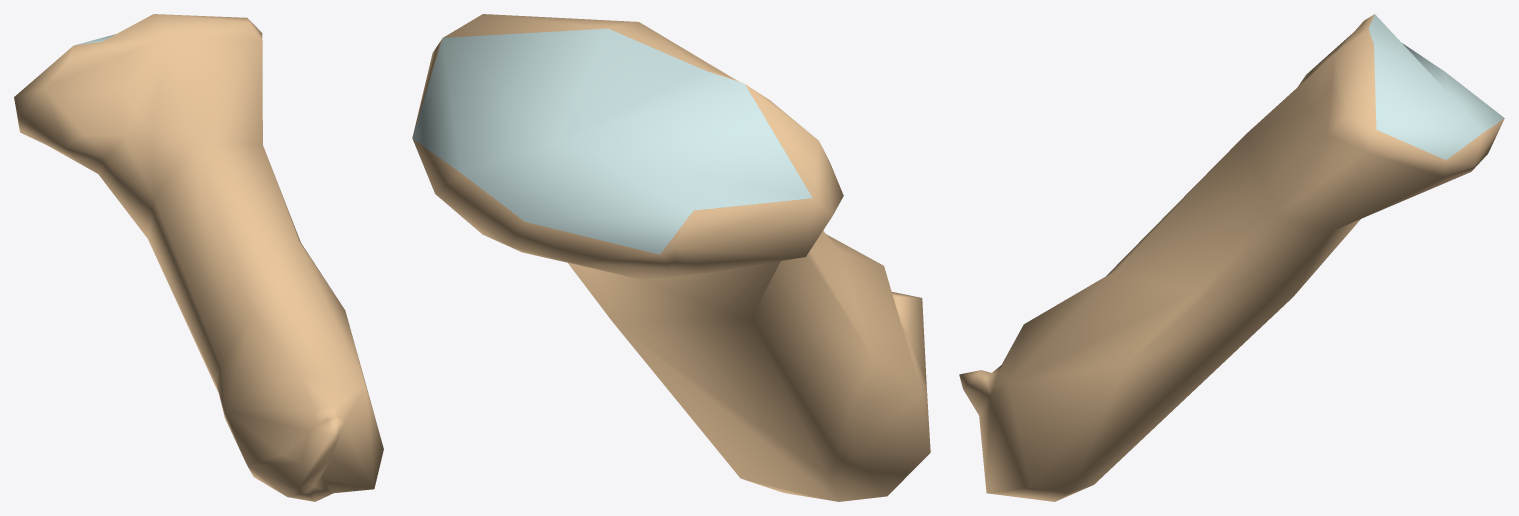
The model's file is Distal_phalanx_fifth_finger_right.glb.
The picture shows the model from 3 angles, left to right: view 1: azimuth 30°, elevation 25°; view 2: azimuth 150°, elevation 25°; view 3: azimuth 270°, elevation 25°; orthographic projection. The views are drawn at different scales.
Parts seen in each view (by area): view 1: Distal_phalanx_of_5th_finger.r_Generated_Mesh_From_X3D.722; view 2: Distal_phalanx_of_5th_finger.r_Generated_Mesh_From_X3D.722; view 3: Distal_phalanx_of_5th_finger.r_Generated_Mesh_From_X3D.722.
Part boxes in pixels (left/top/right/bottom): Distal_phalanx_of_5th_finger.r_Generated_Mesh_From_X3D.722: left=14, top=14, right=383, bottom=501; Distal_phalanx_of_5th_finger.r_Generated_Mesh_From_X3D.722: left=412, top=14, right=930, bottom=501; Distal_phalanx_of_5th_finger.r_Generated_Mesh_From_X3D.722: left=959, top=14, right=1504, bottom=501.
Bounding box in the file's own units: 0.00858 × 0.0131 × 0.0148.
